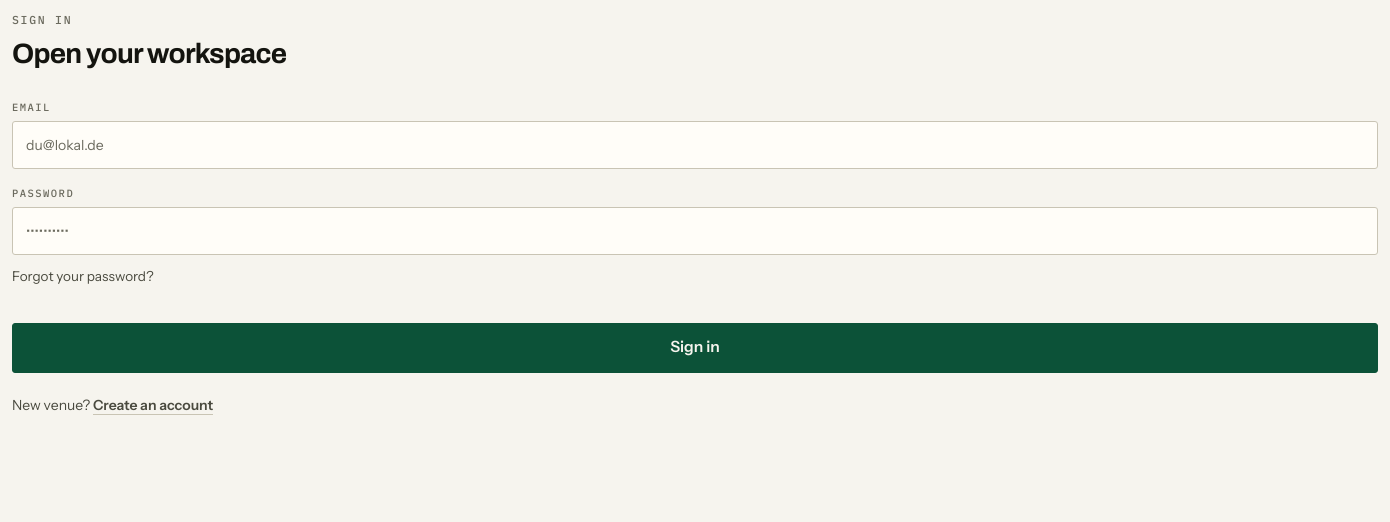
Scenario: LoginForm › says what to check on the first failure, and offers a way out
Type "wrong@example.com" into the field labelled "Email" at (695,145), box top-left (12, 121), bottom-right (1378, 169)
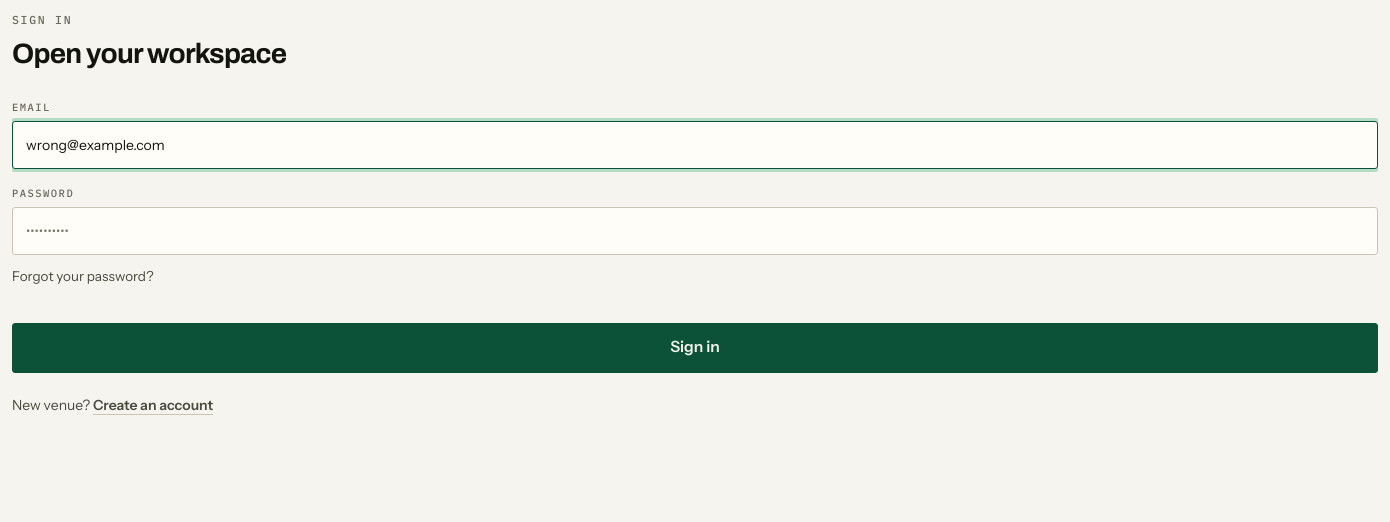
Type "badpassword" into the password field labelled "Password" at (695,231), box top-left (12, 207), bottom-right (1378, 255)
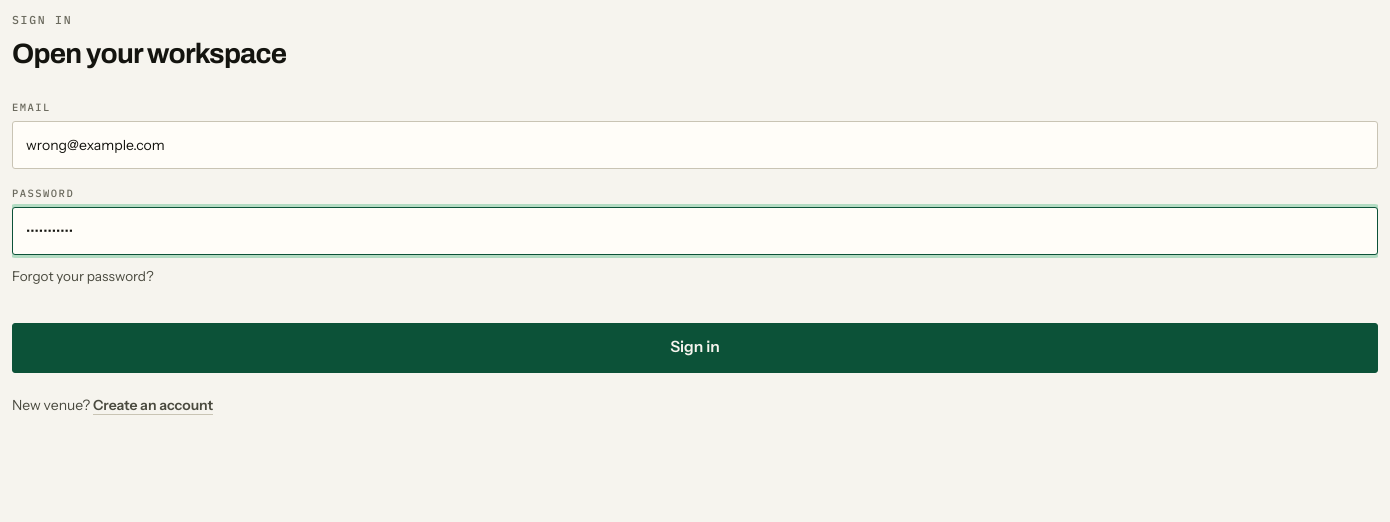
Click the button "Sign in" at (695,348), box top-left (12, 323), bottom-right (1378, 373)
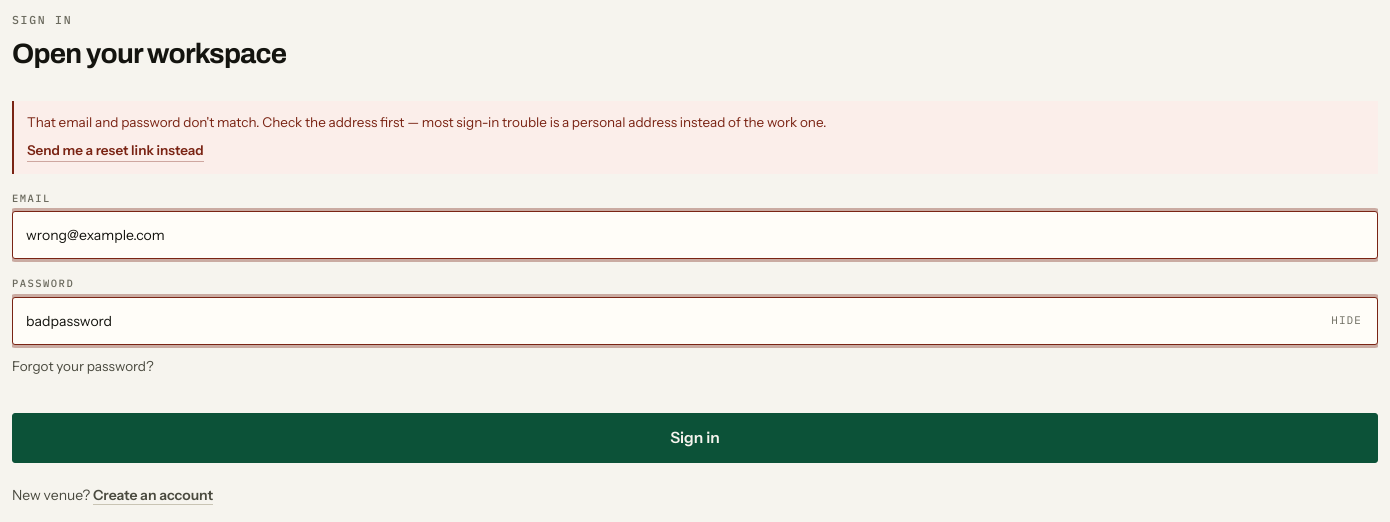
expect the text "That email and password don't match" is shown: met, box top-left (27, 114), bottom-right (826, 130)
